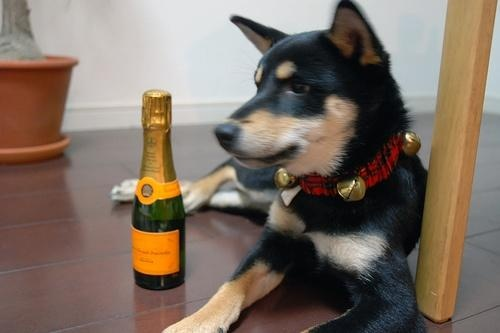bottle: (133, 92, 186, 290)
dog: (112, 1, 426, 330)
pottedplant: (1, 1, 79, 163)
